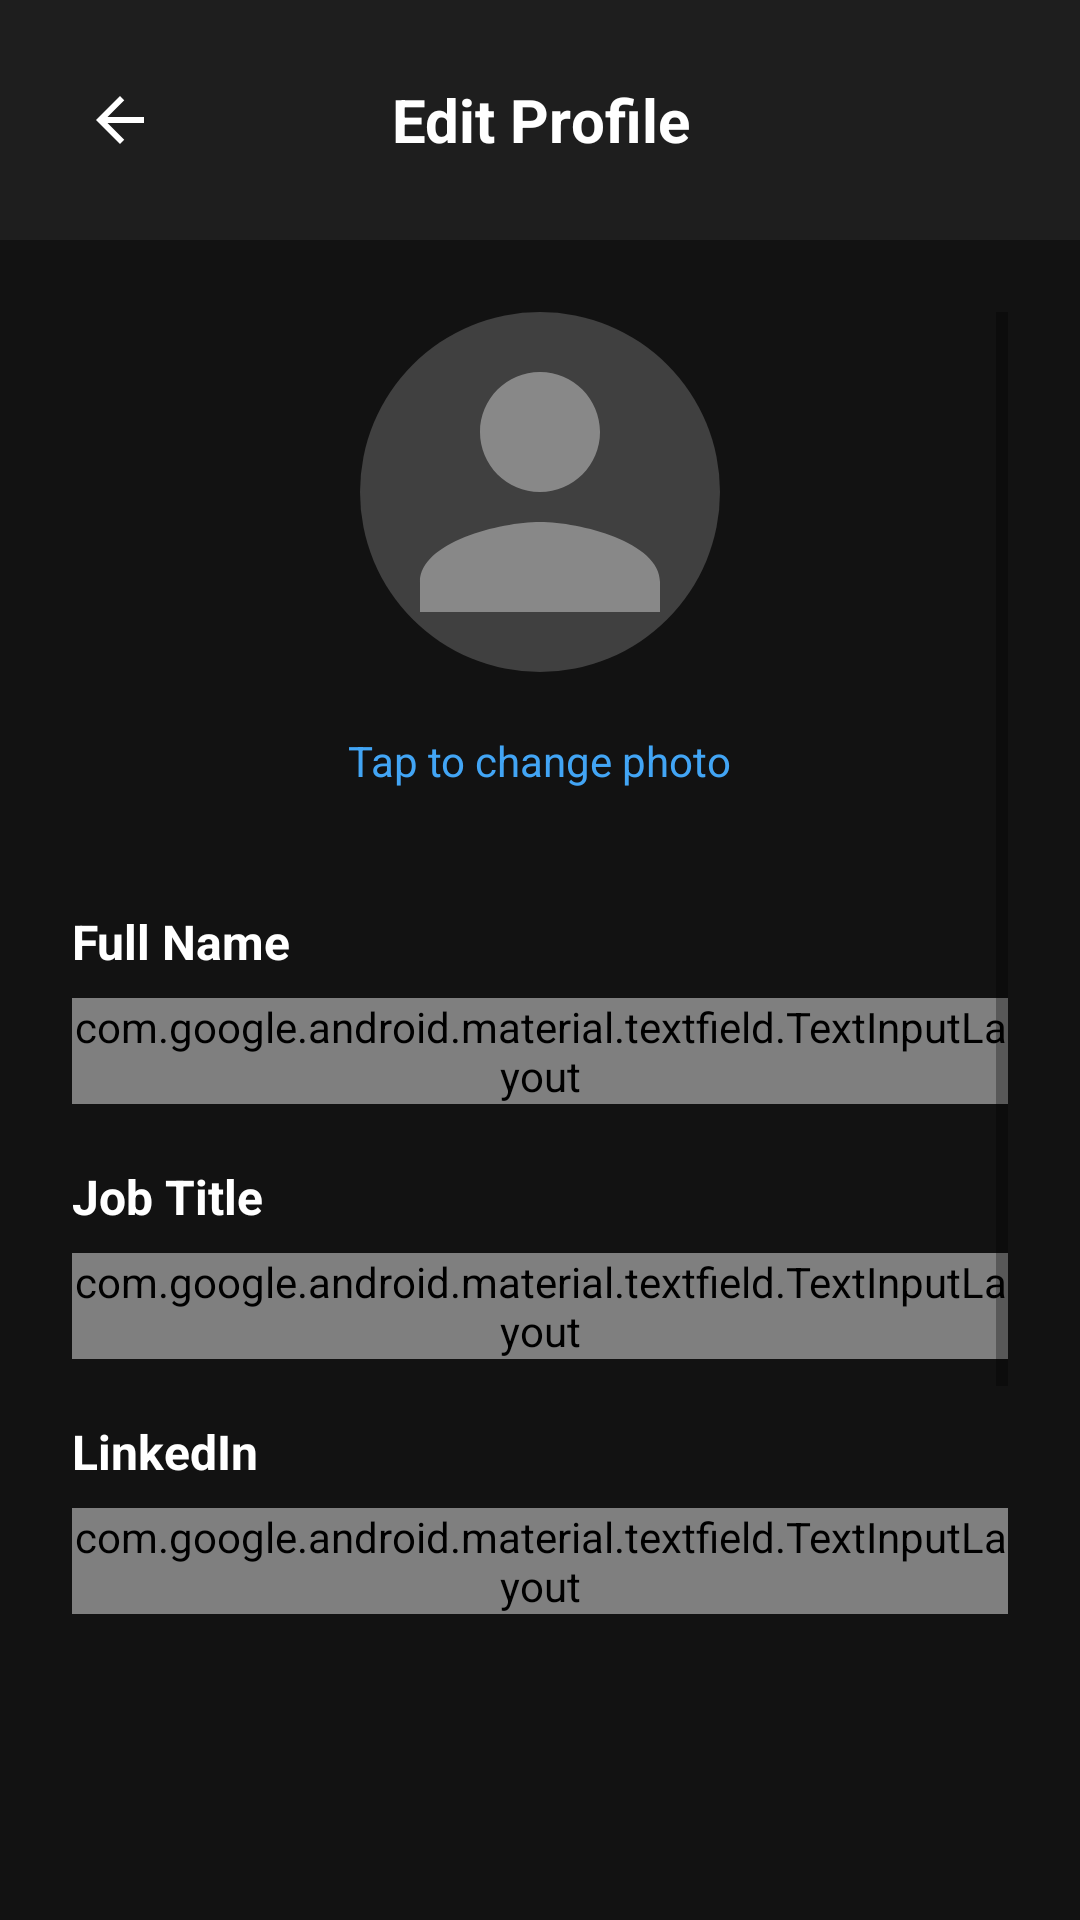

Icons on this 1080 x 1920 Android screen, each with the point to tap as [x,y]:
Back: [120,120]
